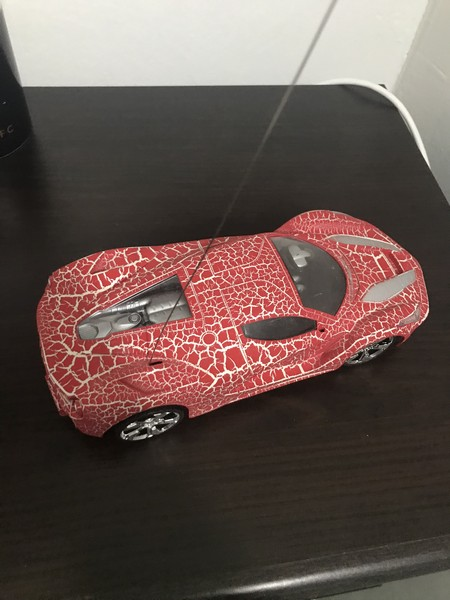RC: (32, 207, 432, 448)
